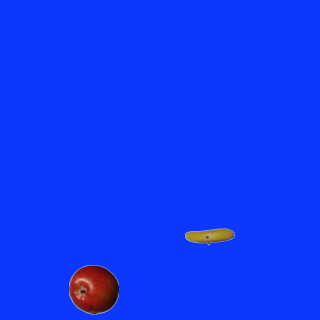Apple Braeburn: (68, 264, 118, 314)
Banana: (184, 211, 234, 261)
